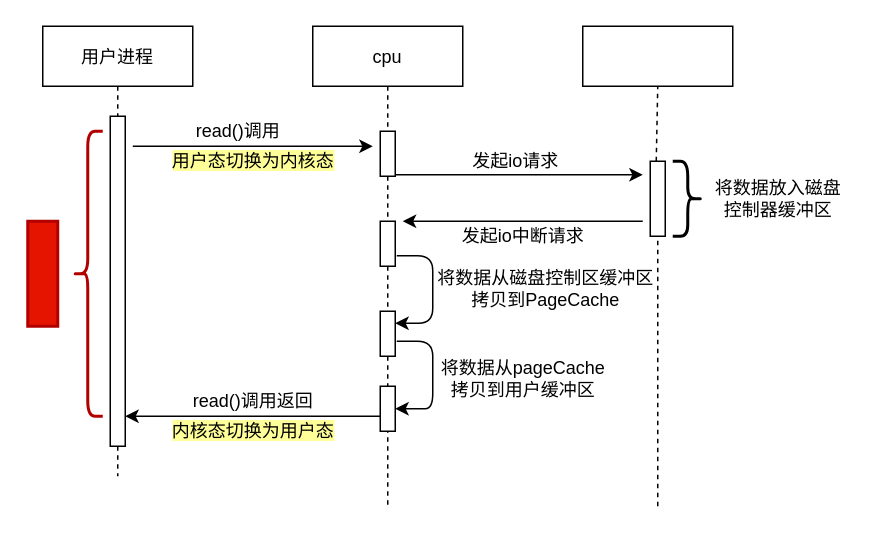
Some shapes in this 878 by 534 pixel diagram are drawn without their labels. Here are the shapes that lost their labels. From the top down, the centre of each, then its label:
the point at 657,55: 磁盘
the point at 42,273: 阻塞等待
